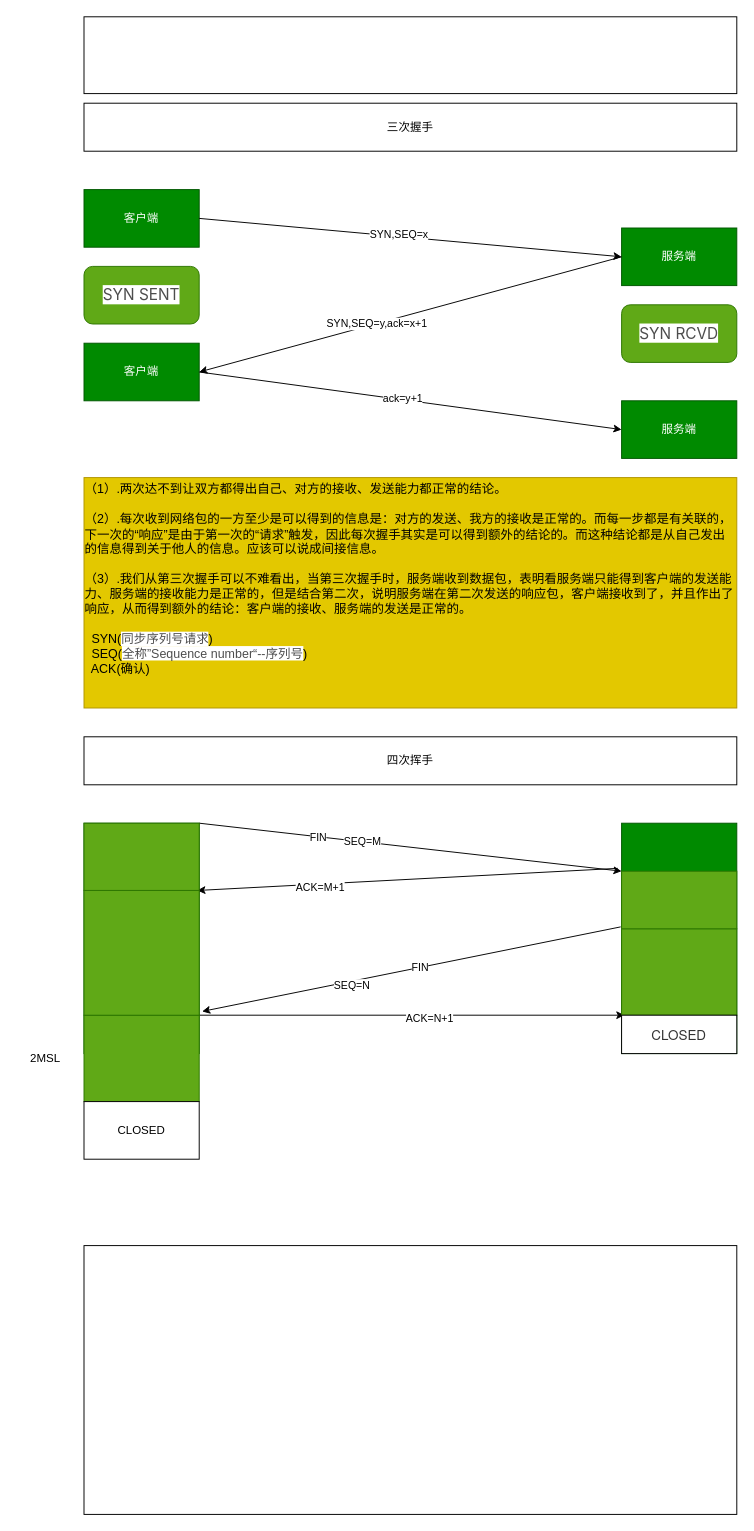
This 754x1531 diagram has some shape labels left out. The centre of each missing label's shape, as x and y in pixels:
CLOSE-WAIT: [679,899]
FIN-WAIT-1: [141,856]
FIN-WAIT-2: [141,952]
LAST-ACK: [679,971]
TCP: [410,55]
TIME-WAIT: [141,1058]
